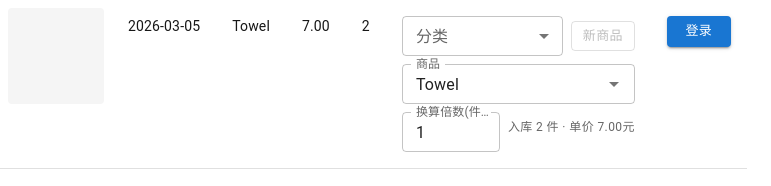
Test: ExtractedResultRow › hides the error when the factor changes
Click the button "登录" at coordinates (699, 31), box [667,16,731,47]
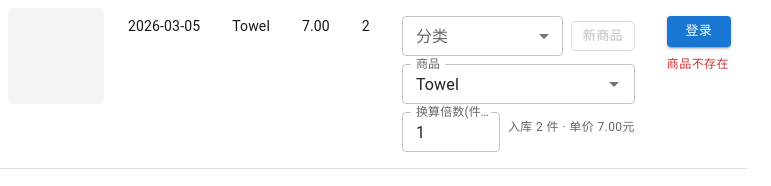
Check: the message reads "商品不存在", box [667,57,729,71]
Type "0" into the number field labelled "换算倍数(件/组)" at coordinates (451, 132), box [402,112,500,152]
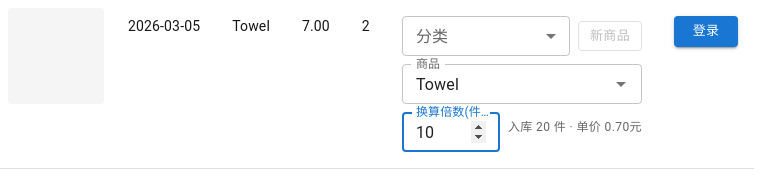
Check: the message "商品不存在" is gone
